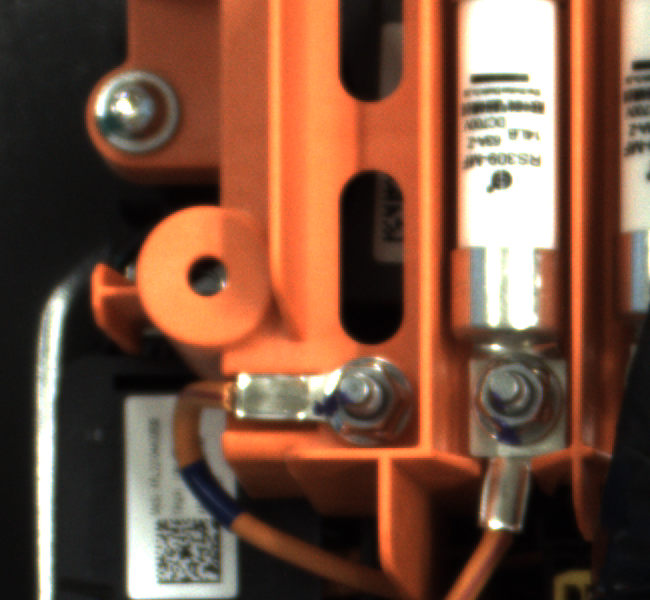screw_m: (76, 62, 205, 171)
screw_s: (461, 353, 563, 449), (326, 353, 412, 442)
